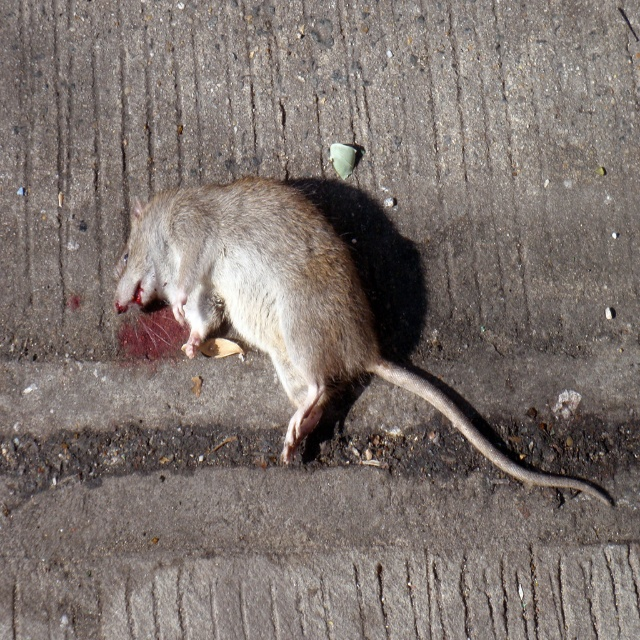Mouse: (112, 175, 613, 506)
